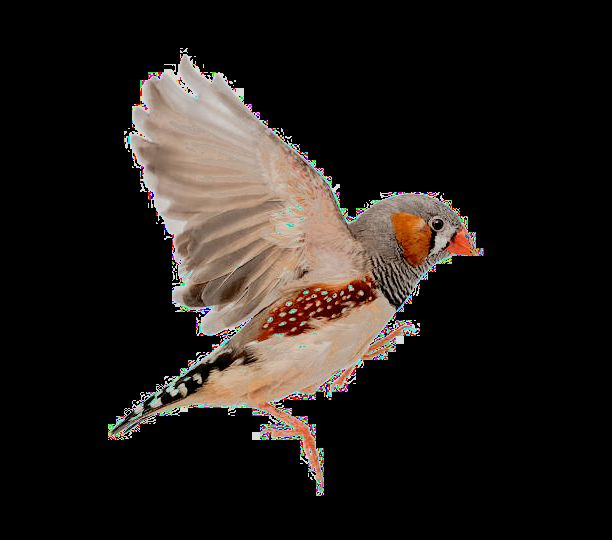Bird: (102, 40, 487, 501)
